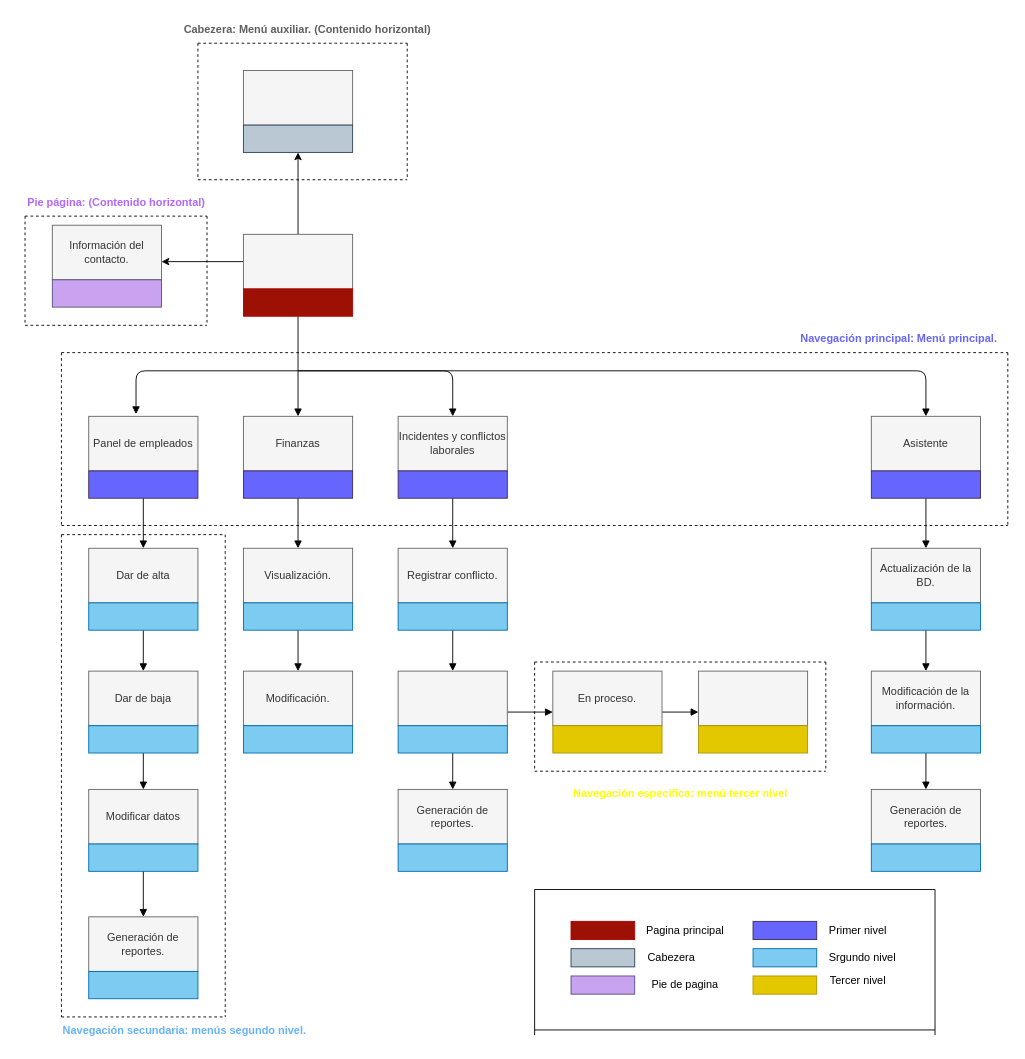
The diagram is 1025 pixels wide and 1059 high, and some of its shapes have lost their labels. Each missing label, with the centre of its shape:
"Enlance para recuperar contraseña." goes at (298,97).
"Inicio" goes at (298,261).
"Modificación del estado." goes at (452,698).
"Resuelto." goes at (753,698).
